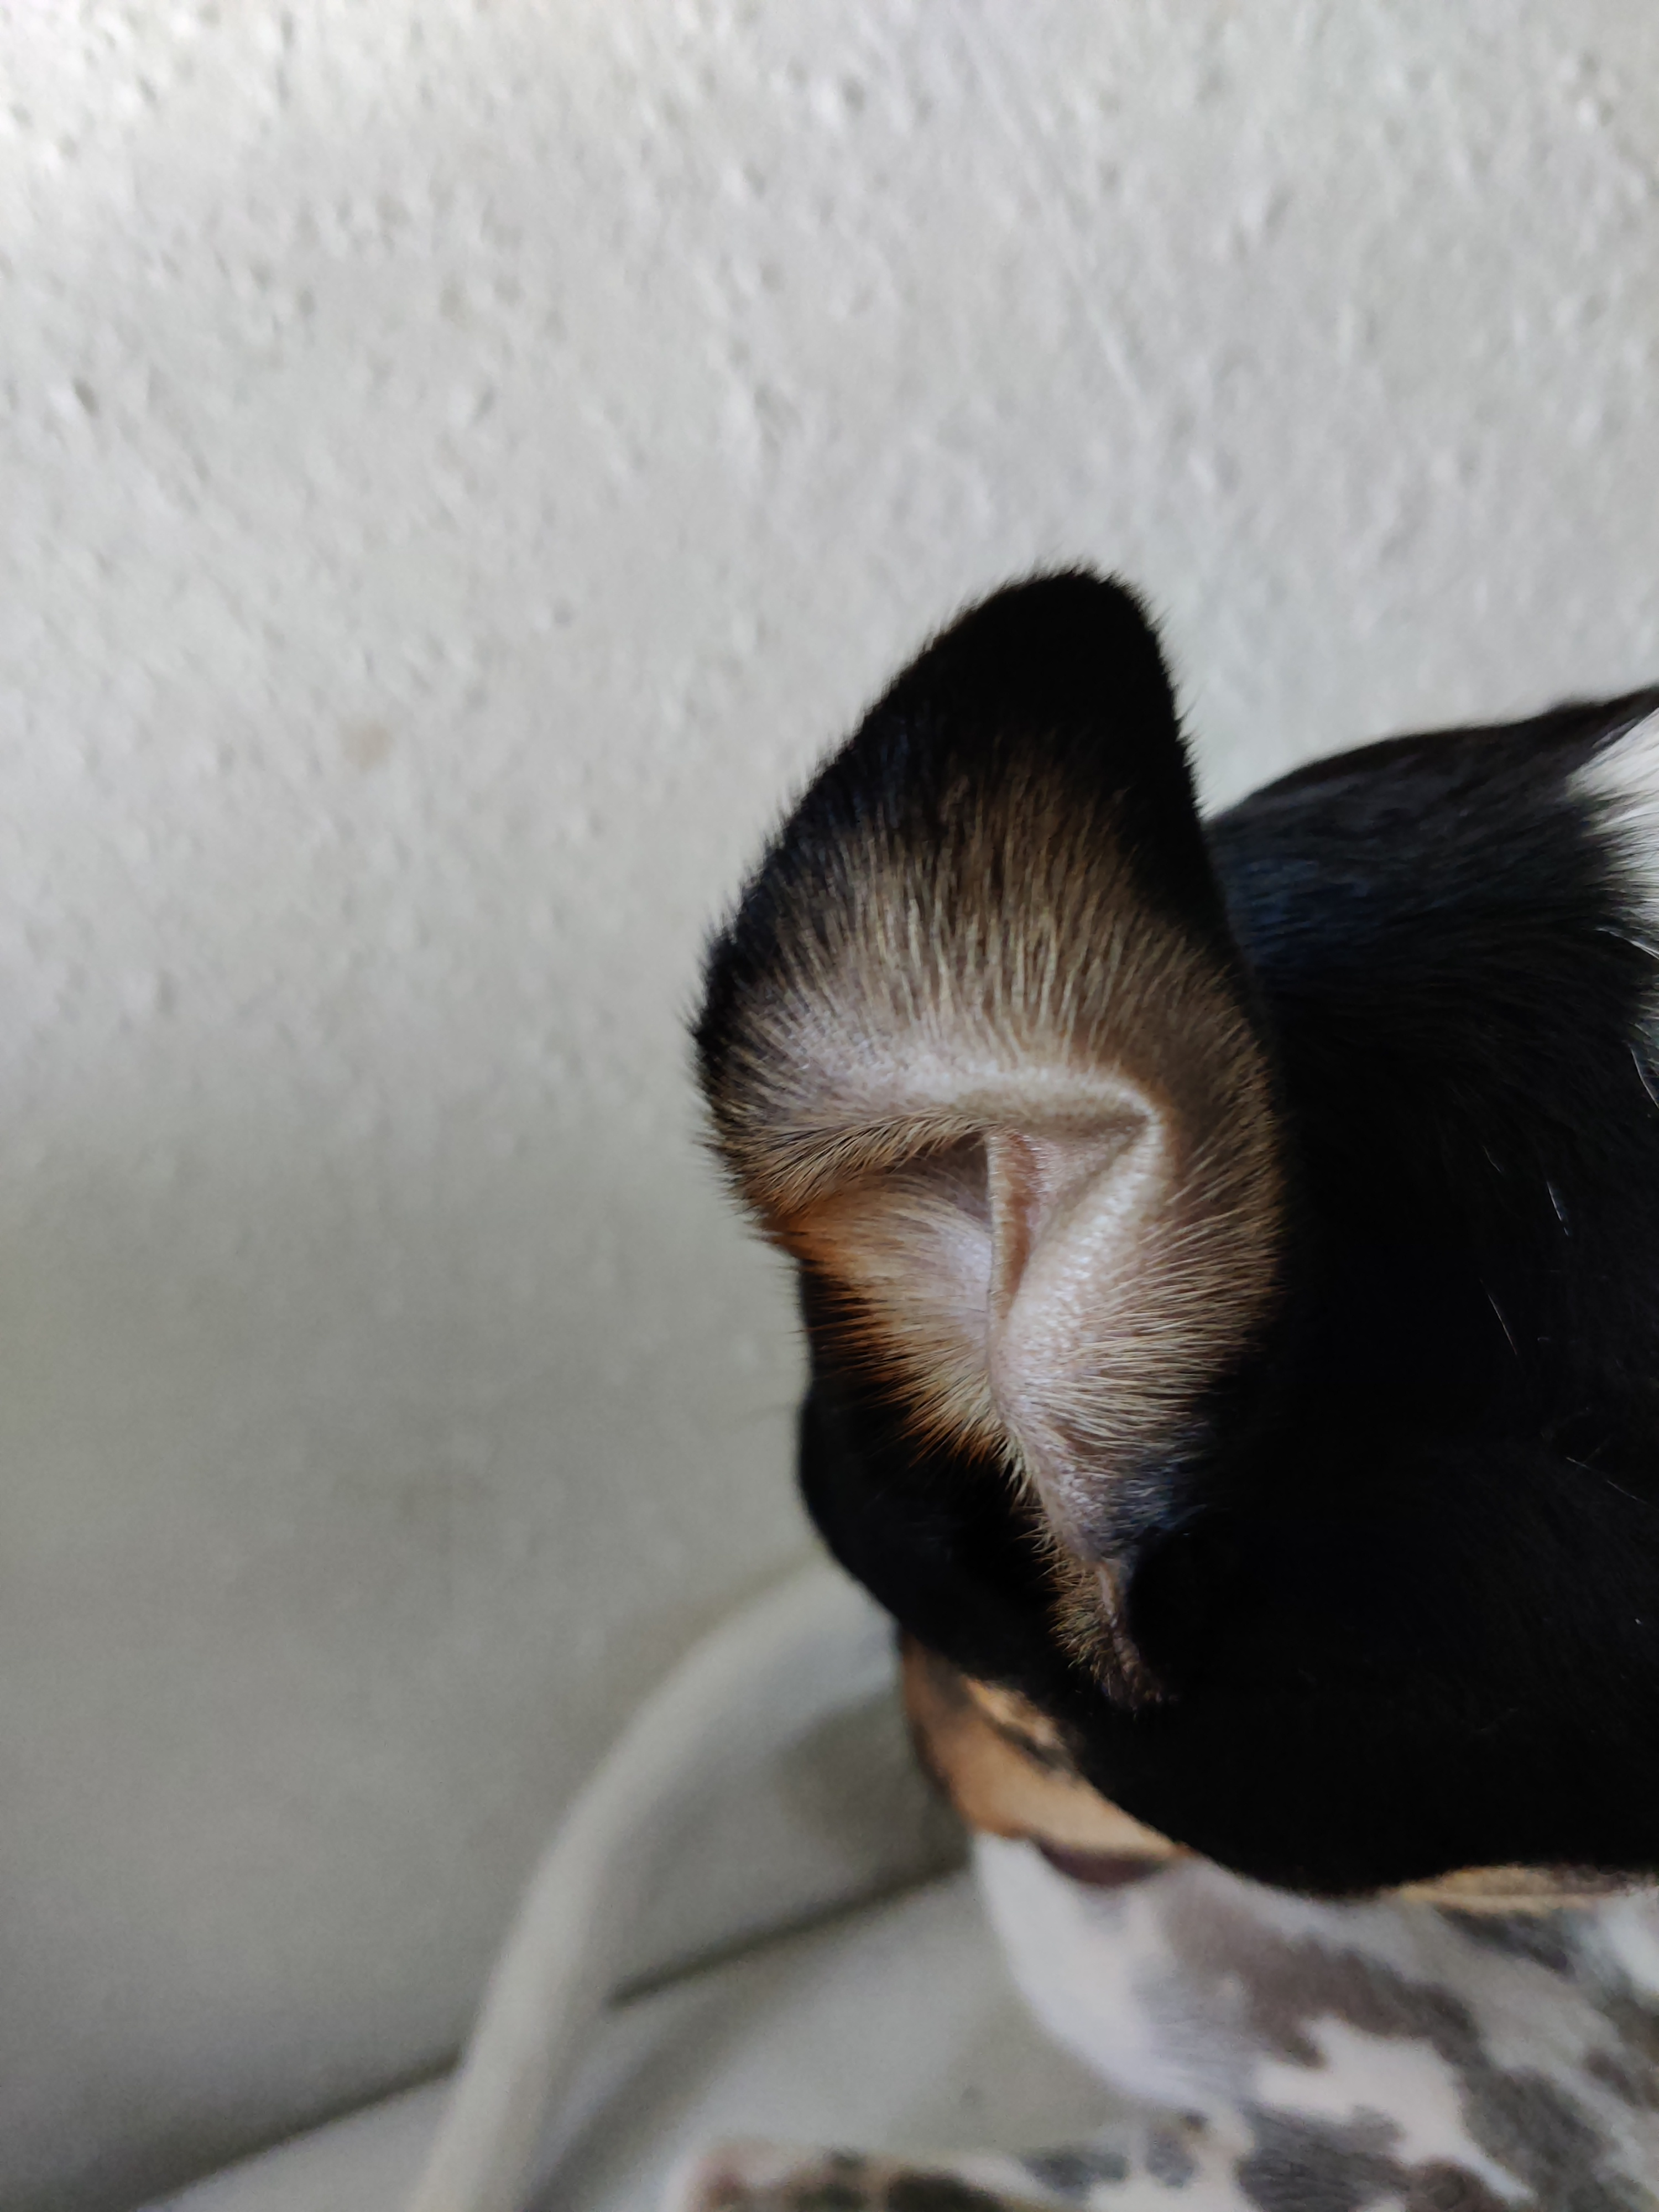Dog: (410, 536, 1659, 2212)
